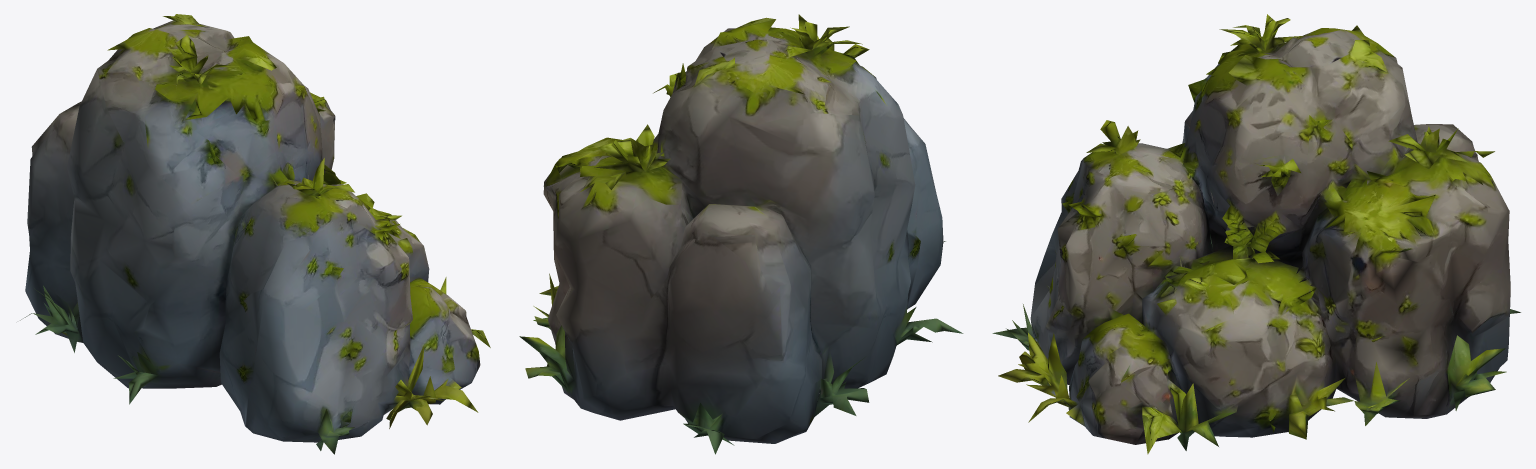
Rendered from decor_rocks.glb.
3 views of the same model, side by side, from view 1: azimuth 30°, elevation 25°; view 2: azimuth 150°, elevation 25°; view 3: azimuth 270°, elevation 25° (orthographic). The views are drawn at different scales.
Parts seen in each view (by area): view 1: tripo_node_ac8b80f4-0760-4812-956f-87d7654c6117; view 2: tripo_node_ac8b80f4-0760-4812-956f-87d7654c6117; view 3: tripo_node_ac8b80f4-0760-4812-956f-87d7654c6117.
Part boxes in pixels (left/top/right/bottom): tripo_node_ac8b80f4-0760-4812-956f-87d7654c6117: left=20, top=14, right=490, bottom=454; tripo_node_ac8b80f4-0760-4812-956f-87d7654c6117: left=519, top=14, right=963, bottom=454; tripo_node_ac8b80f4-0760-4812-956f-87d7654c6117: left=992, top=14, right=1520, bottom=454.
Bounding box in the file's own units: 0.7702 × 0.6743 × 0.9871.
1 material, 1 textured.
